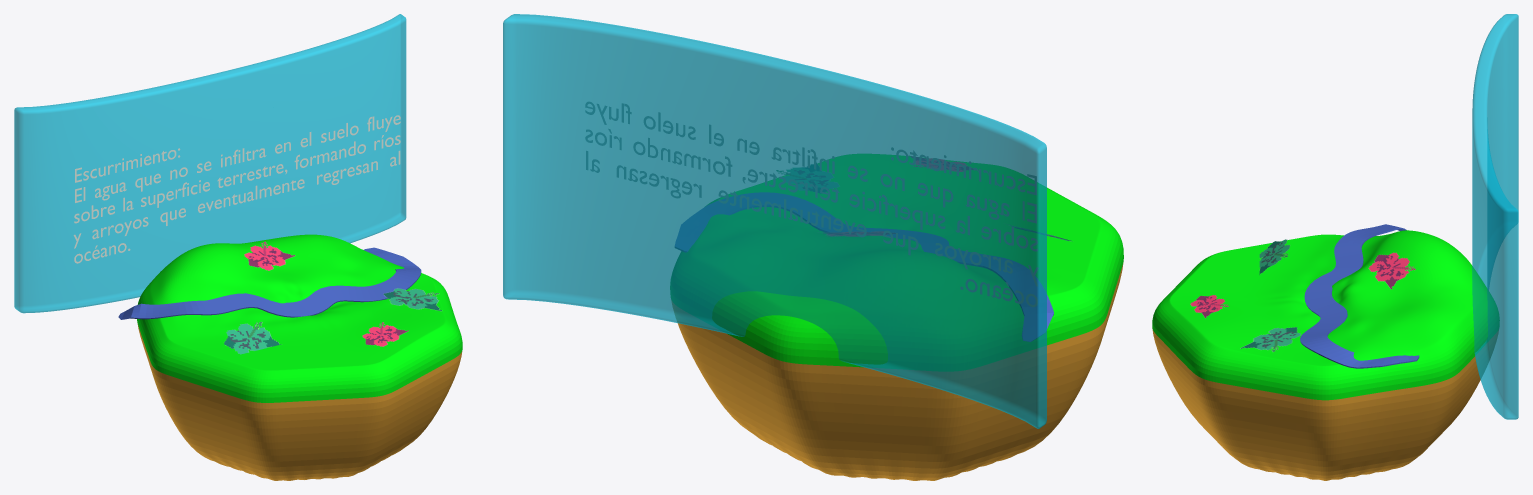
File: 1escurrimiento.glb
3 views of the same model, side by side, from view 1: azimuth 30°, elevation 25°; view 2: azimuth 150°, elevation 25°; view 3: azimuth 270°, elevation 25° (orthographic). The views are drawn at different scales.
Parts seen in each view (by area): view 1: Cube, Cubo, Escurrimiento, Plano, Diseño sin título (1), Diseño sin título (1).001, Diseño sin título (2).001, Diseño sin título (2); view 2: Cube, Cubo, Escurrimiento, Plano, Diseño sin título (1).001; view 3: Cubo, Cube, Plano, Diseño sin título (2).001, Diseño sin título (1).001, Diseño sin título (1), Diseño sin título (2).
Part boxes in pixels (x1,y1,x2,y2): Cube: [14, 14, 406, 313]; Cubo: [137, 234, 462, 480]; Escurrimiento: [73, 115, 400, 263]; Plano: [118, 247, 421, 319]; Diseño sin título (1): [224, 322, 281, 354]; Diseño sin título (1).001: [383, 288, 442, 311]; Diseño sin título (2).001: [244, 241, 295, 270]; Diseño sin título (2): [362, 322, 408, 346]; Cube: [503, 14, 1046, 428]; Cubo: [670, 154, 1123, 480]; Escurrimiento: [585, 102, 1038, 306]; Plano: [675, 192, 1053, 341]; Diseño sin título (1).001: [776, 163, 839, 193]; Cubo: [1152, 230, 1499, 480]; Cube: [1472, 14, 1518, 419]; Plano: [1300, 224, 1419, 368]; Diseño sin título (2).001: [1368, 252, 1415, 289]; Diseño sin título (1).001: [1240, 327, 1300, 351]; Diseño sin título (1): [1259, 239, 1290, 275]; Diseño sin título (2): [1190, 295, 1228, 317].
Bounding box in the file's own units: 7.91 × 6.41 × 6.22.
Materials: 7 (2 with a texture image).
